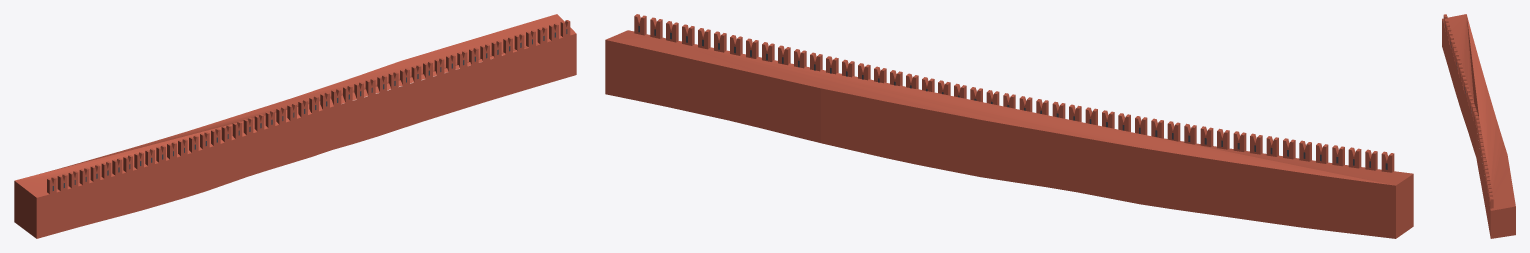
File: moscow-kremlin-wall-second-unnamed-peters.glb
The picture shows the model from 3 angles, left to right: view 1: azimuth 30°, elevation 25°; view 2: azimuth 150°, elevation 25°; view 3: azimuth 270°, elevation 25°; orthographic projection. The views are drawn at different scales.
Parts seen in each view (by area): view 1: Kremlin Wall, Second Unnamed Tower to Peter's Tower; view 2: Kremlin Wall, Second Unnamed Tower to Peter's Tower; view 3: Kremlin Wall, Second Unnamed Tower to Peter's Tower.
Part boxes in pixels (x1,y1,x2,y2): Kremlin Wall, Second Unnamed Tower to Peter's Tower: [14, 14, 576, 238]; Kremlin Wall, Second Unnamed Tower to Peter's Tower: [605, 14, 1413, 238]; Kremlin Wall, Second Unnamed Tower to Peter's Tower: [1442, 14, 1515, 238].
Size of the model in its own units: 96.83 by 9.95 by 15.75.
